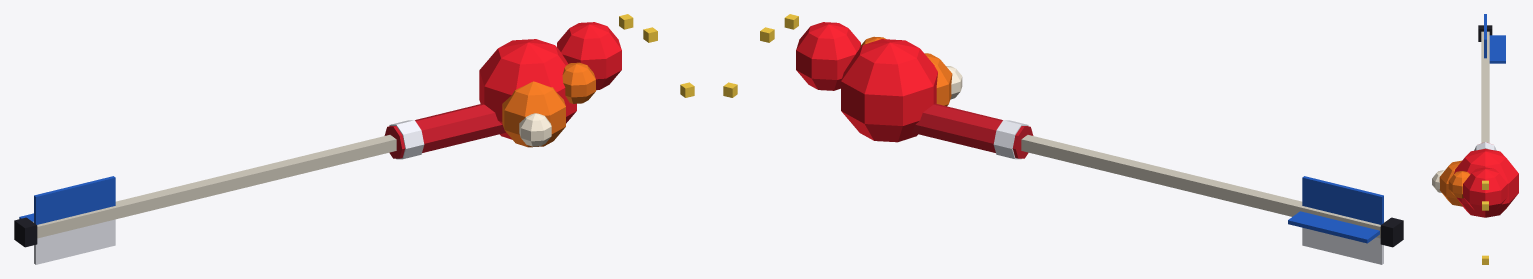
The model's file is fleche_enflammee.glb.
3 views of the same model, side by side, from view 1: azimuth 30°, elevation 25°; view 2: azimuth 150°, elevation 25°; view 3: azimuth 270°, elevation 25° (orthographic). The views are drawn at different scales.
Parts seen in each view (by area): view 1: p_box.3484, p_sph.622, p_cyl.329, p_sph.623, p_box.3485, p_sph.624, p_box.3486, p_sph.625, p_sph.626, p_cyl.330, p_box.3488; view 2: p_sph.622, p_box.3484, p_sph.623, p_cyl.329, p_box.3485, p_box.3486, p_box.3487, p_cyl.330, p_sph.624, p_box.3488; view 3: p_sph.622, p_sph.623, p_box.3484, p_box.3487, p_sph.624, p_sph.625, p_sph.626, p_box.3488, p_cyl.330, p_box.3485, p_box.3489, p_box.3490 (+1 smaller).
Part boxes in pixels (bbox=[...]): p_box.3484: bbox=[33, 135, 396, 238]; p_sph.622: bbox=[479, 39, 576, 139]; p_cyl.329: bbox=[384, 103, 505, 158]; p_sph.623: bbox=[557, 22, 621, 90]; p_box.3485: bbox=[34, 176, 115, 224]; p_sph.624: bbox=[502, 81, 565, 147]; p_box.3486: bbox=[34, 219, 115, 264]; p_sph.625: bbox=[562, 62, 595, 103]; p_sph.626: bbox=[519, 113, 551, 146]; p_cyl.330: bbox=[389, 120, 424, 159]; p_box.3488: bbox=[14, 217, 37, 247]; p_sph.622: bbox=[841, 39, 937, 142]; p_box.3484: bbox=[1021, 135, 1384, 238]; p_sph.623: bbox=[796, 22, 860, 90]; p_cyl.329: bbox=[912, 103, 1033, 158]; p_box.3485: bbox=[1302, 176, 1383, 224]; p_box.3486: bbox=[1302, 227, 1383, 264]; p_box.3487: bbox=[1288, 211, 1379, 243]; p_cyl.330: bbox=[993, 120, 1028, 159]; p_sph.624: bbox=[924, 53, 952, 106]; p_box.3488: bbox=[1380, 217, 1403, 247]; p_sph.622: bbox=[1454, 148, 1518, 217]; p_sph.623: bbox=[1463, 167, 1507, 213]; p_box.3484: bbox=[1481, 31, 1489, 143]; p_box.3487: bbox=[1489, 35, 1505, 63]; p_sph.624: bbox=[1439, 160, 1462, 206]; p_sph.625: bbox=[1448, 171, 1470, 198]; p_sph.626: bbox=[1432, 170, 1444, 192]; p_box.3488: bbox=[1478, 25, 1492, 41]; p_cyl.330: bbox=[1474, 142, 1496, 150]; p_box.3485: bbox=[1484, 14, 1486, 58]; p_box.3489: bbox=[1482, 201, 1488, 210]; p_box.3490: bbox=[1482, 255, 1488, 264].
Size of the model in its own units: 1.1 by 0.163 by 0.1851.
